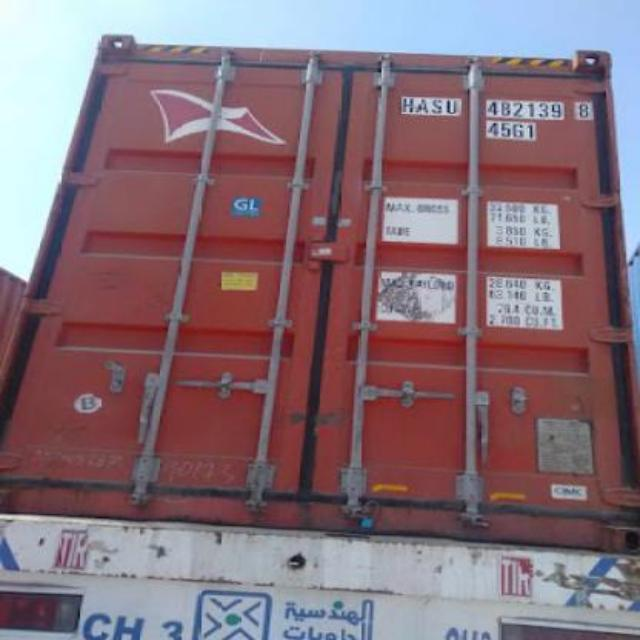1: (526, 100, 538, 124)
2: (510, 98, 522, 118)
3: (540, 100, 550, 122)
4: (488, 99, 498, 117)
8: (578, 100, 594, 122), (500, 100, 512, 120)
9: (552, 100, 566, 122)
A: (416, 95, 429, 115)
H: (404, 94, 416, 116)
S: (431, 95, 444, 115)
U: (448, 94, 460, 116)
